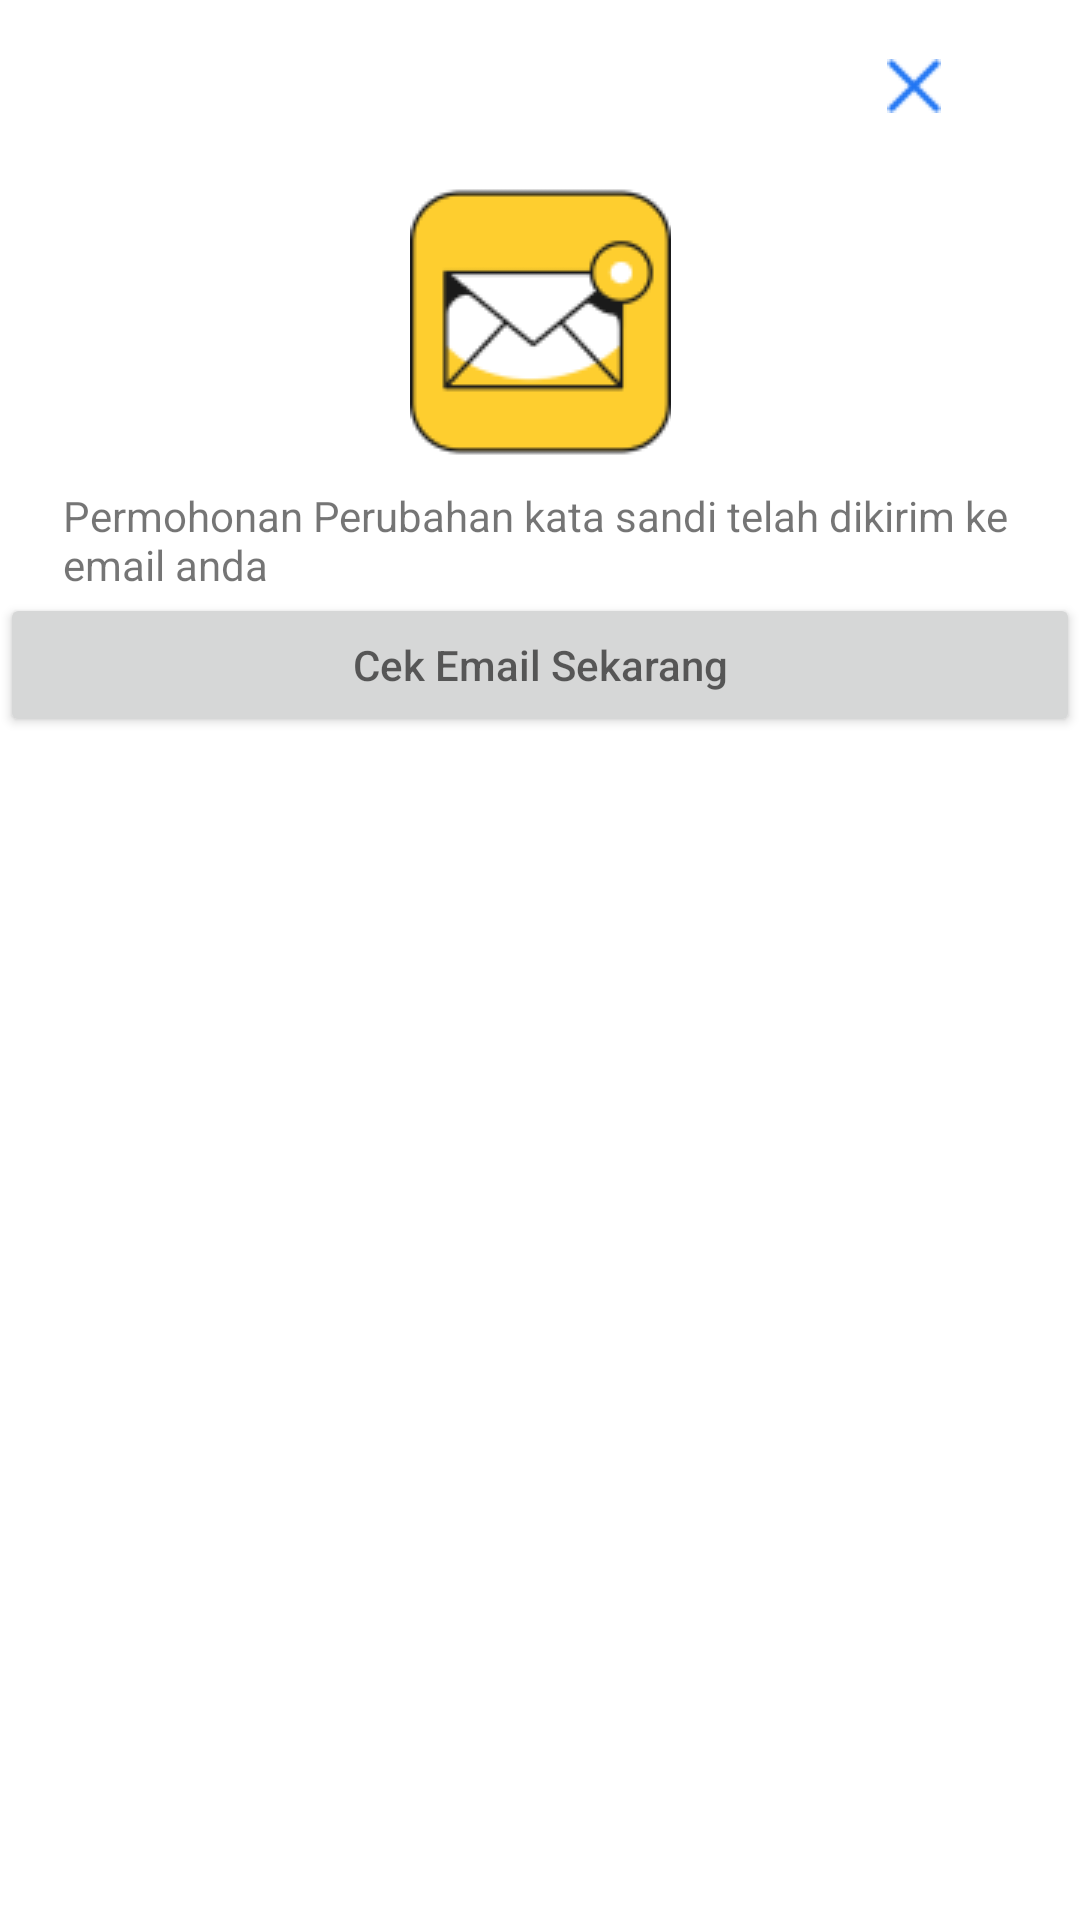

Screen size 1080px x 1920px. Icon name, then its center in pixels as [x,y]:
pesan: [540,322]
